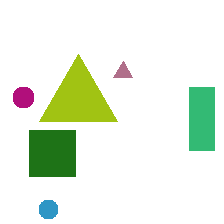circle: (13, 87, 33, 107), (39, 200, 57, 218)
rectangle: (29, 130, 75, 176), (189, 87, 214, 150)
triangle: (39, 54, 117, 121), (113, 61, 132, 77)
